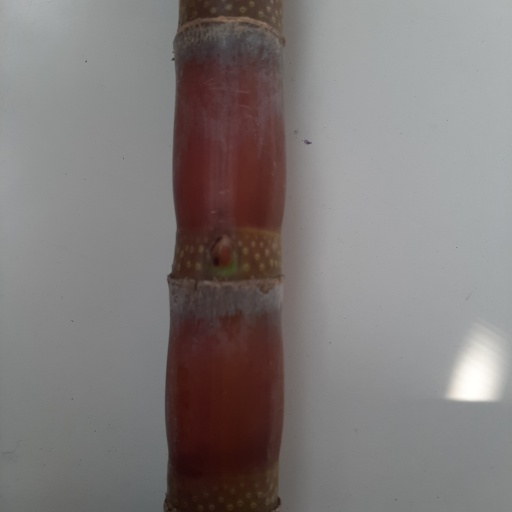Bud: (210, 234, 239, 276)
